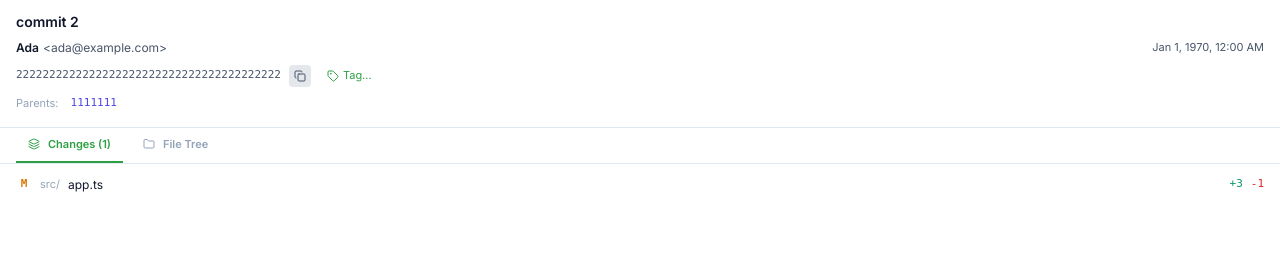
Test: CommitDetail › fetches a folder's contents only when it is expanded
Click the button "File Tree".
click(176, 145)  # box [131, 128, 220, 162]
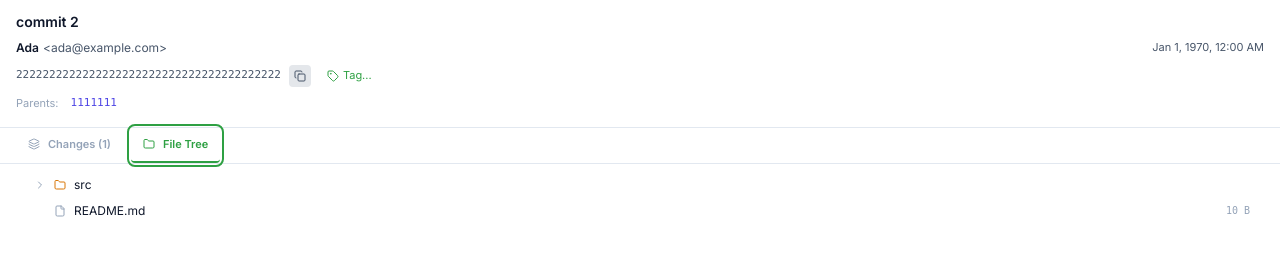
expect the text "README.md" is shown: met, box [74, 202, 145, 220]
Click the button "src".
click(63, 184)  # box [34, 176, 92, 192]
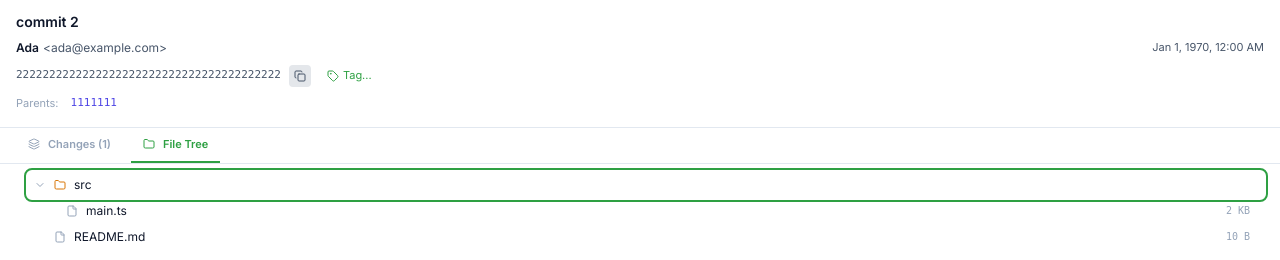
expect the text "main.ts" is shown: met, box [86, 202, 127, 220]
expect the text "2 KB" is shown: met, box [1226, 205, 1250, 216]
// Collapsing and re-expanding reuses what was fetched.
Click the button "src".
click(63, 184)  # box [34, 176, 92, 192]
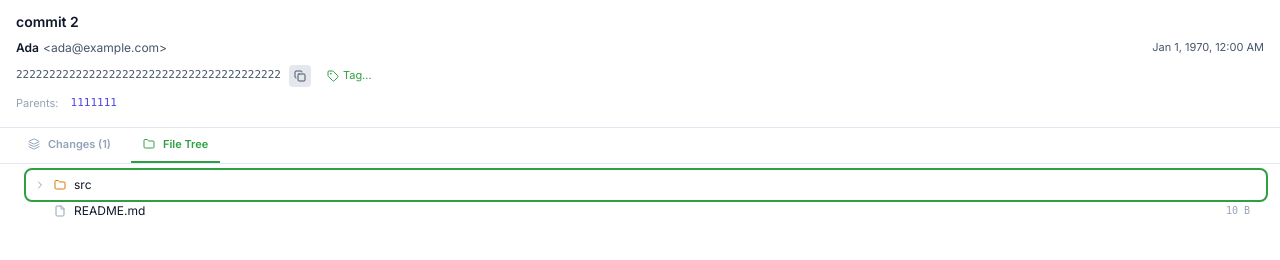
Click the button "src".
click(63, 184)  # box [34, 176, 92, 192]
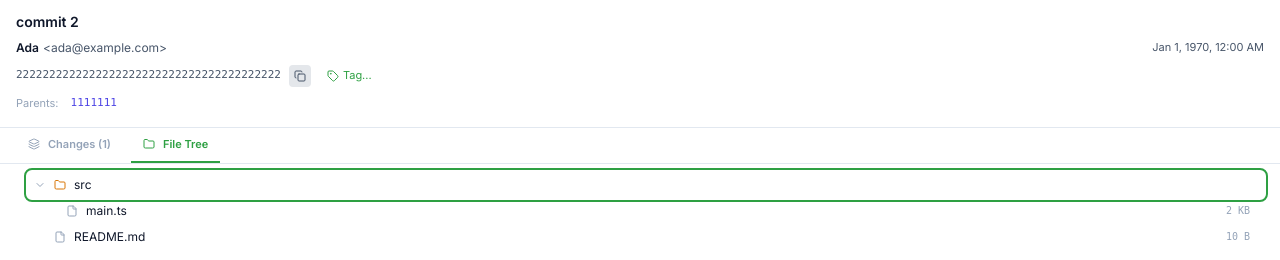
expect the button "src" is expanded: met, box [34, 176, 92, 192]
